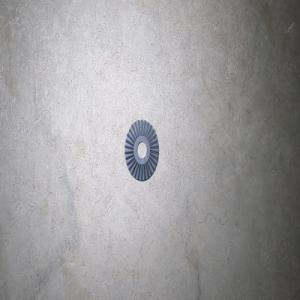Washer: (124, 119, 159, 181)
